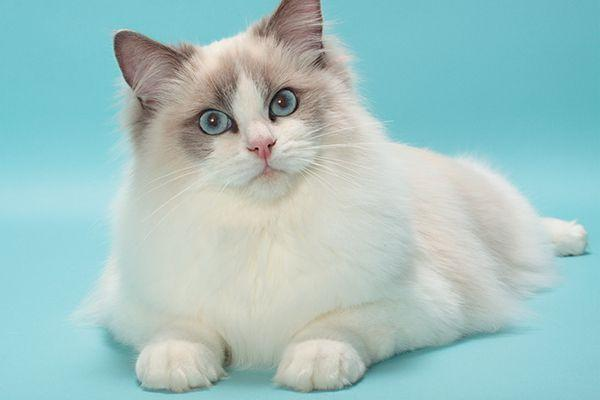ragdoll: (108, 1, 346, 211)
